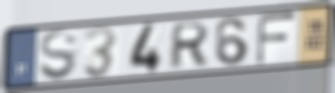3: (82, 24, 122, 80)
4: (127, 21, 164, 76)
6: (214, 16, 252, 69)
F: (254, 11, 299, 67)
R: (166, 20, 212, 71)
S: (38, 28, 79, 83)
